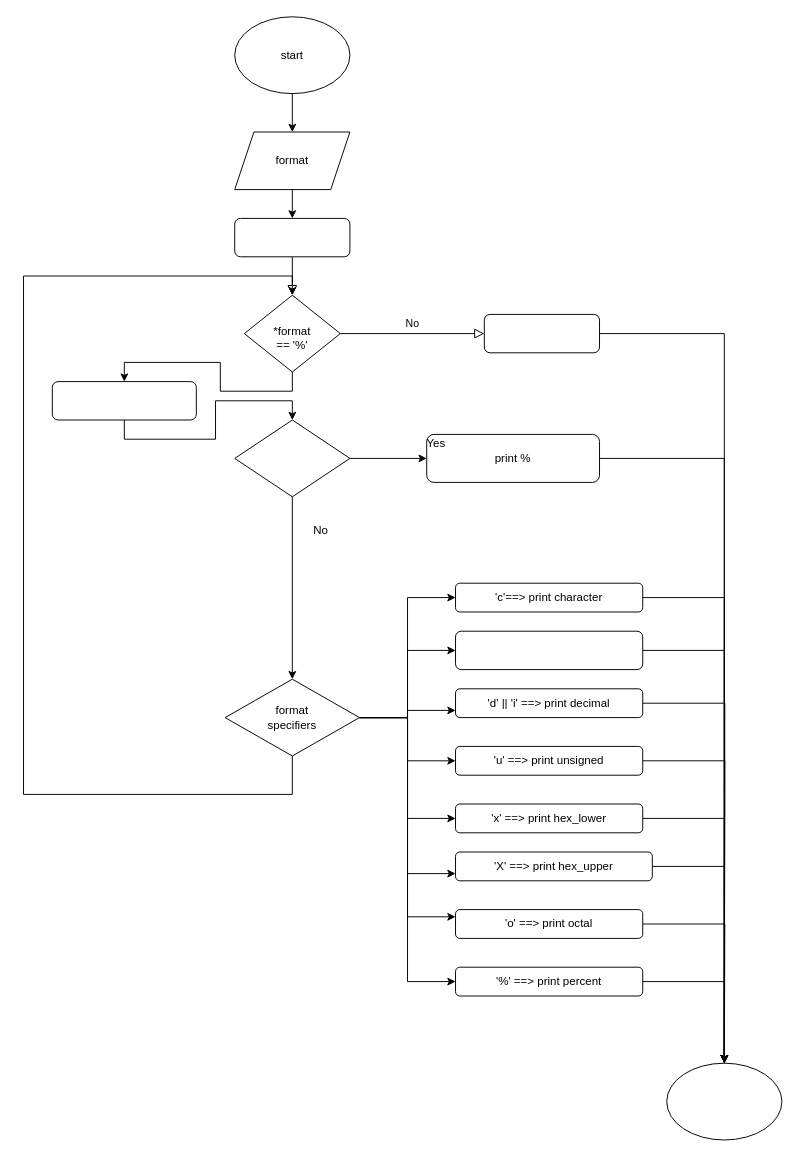
This 799x1157 diagram has some shape labels left out. Here are the shapes that lost their labels. From the top down, the centre of each, then its label:
At (x=292, y=237): "format != '\0'".
At (x=541, y=333): "print format".
At (x=123, y=400): "format ++".
At (x=292, y=458): "format == '\0'".
At (x=549, y=650): "'s' ==> print string".
At (x=724, y=1101): "End".
